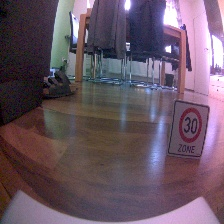dreisiger_zone: (168, 99, 209, 159)
